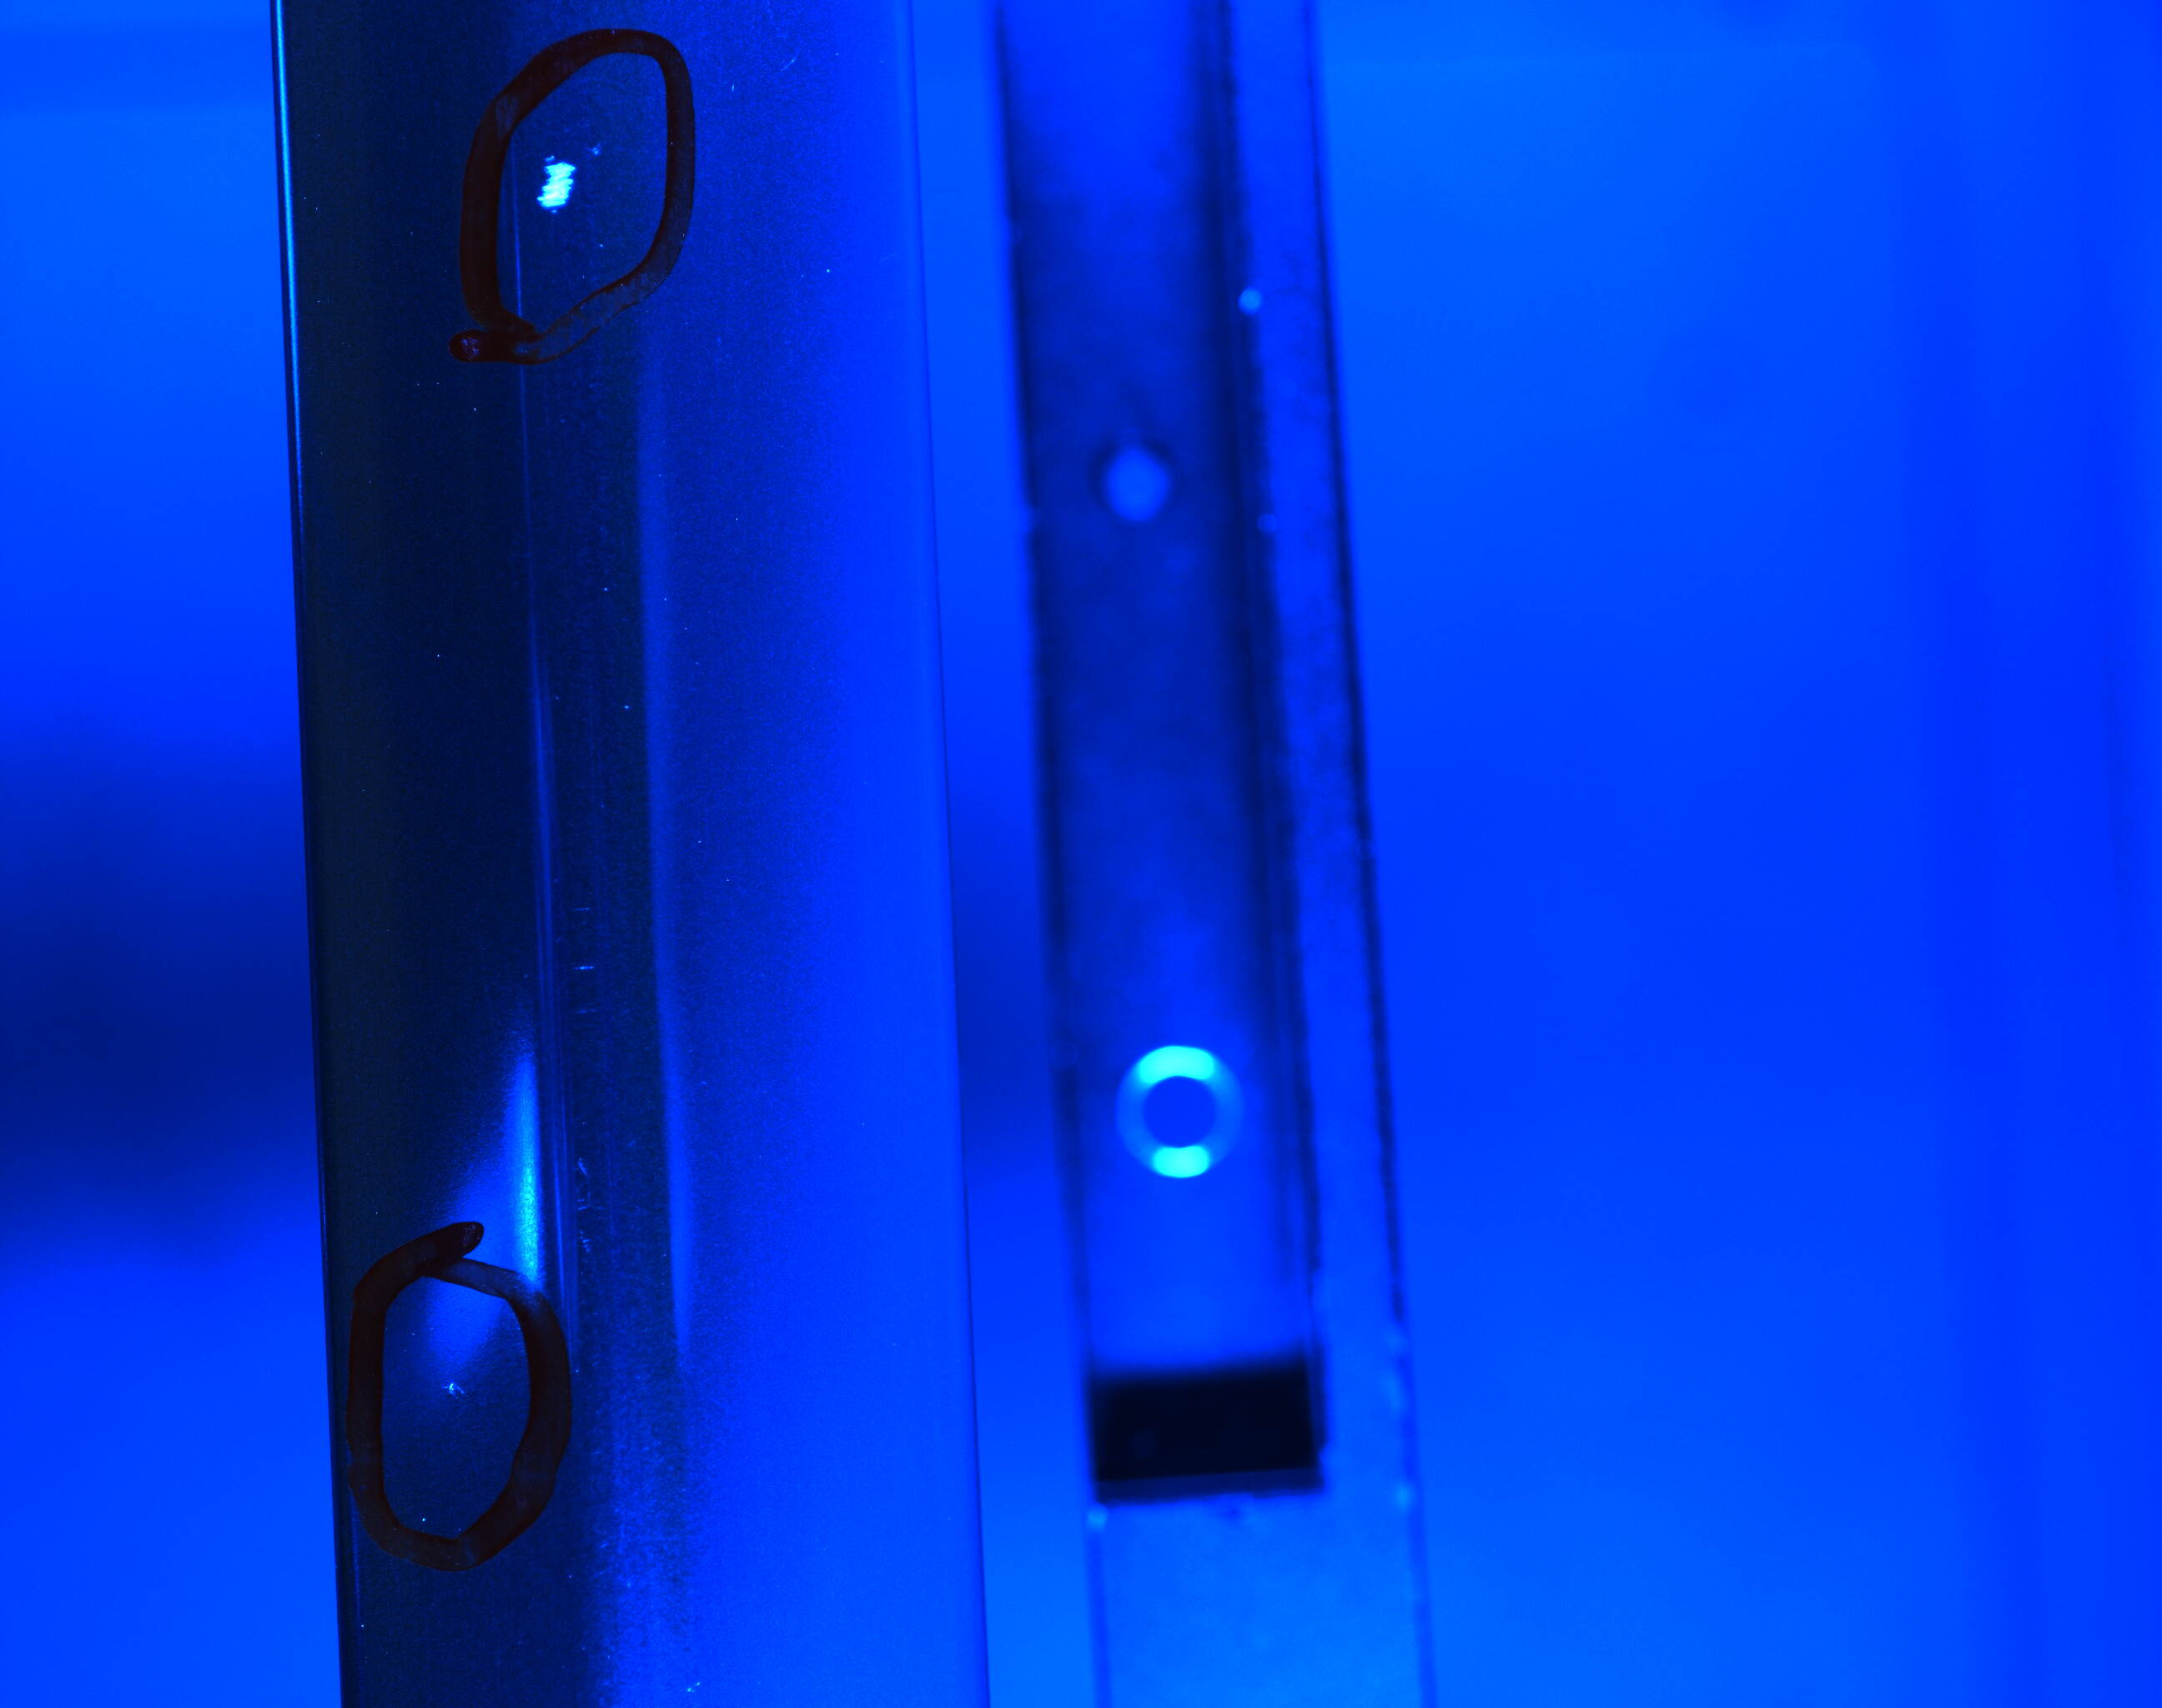NG: (423, 1346, 504, 1483), (526, 144, 600, 249)
